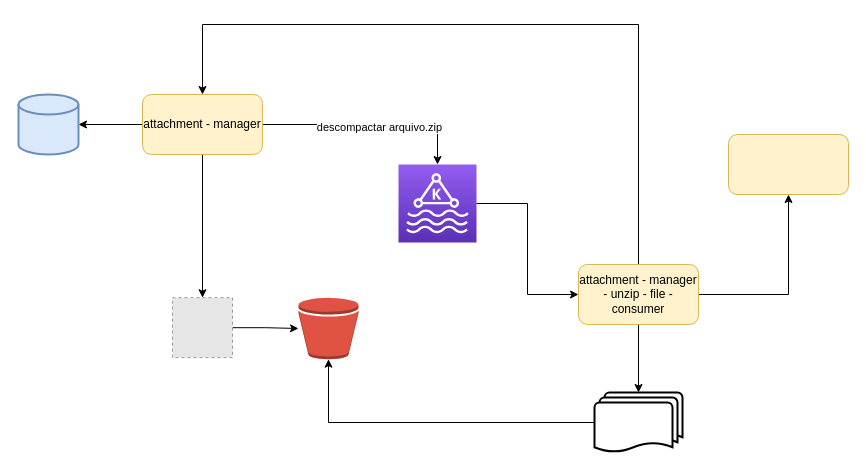
Some shapes in this 866 by 471 pixel diagram are drawn without their labels. Grey dashed boxes stand in for pictures. Each missing label, with the centre of its shape:
"callback" belongs at pixel 788 164.
"PDFs" belongs at pixel 638 422.
